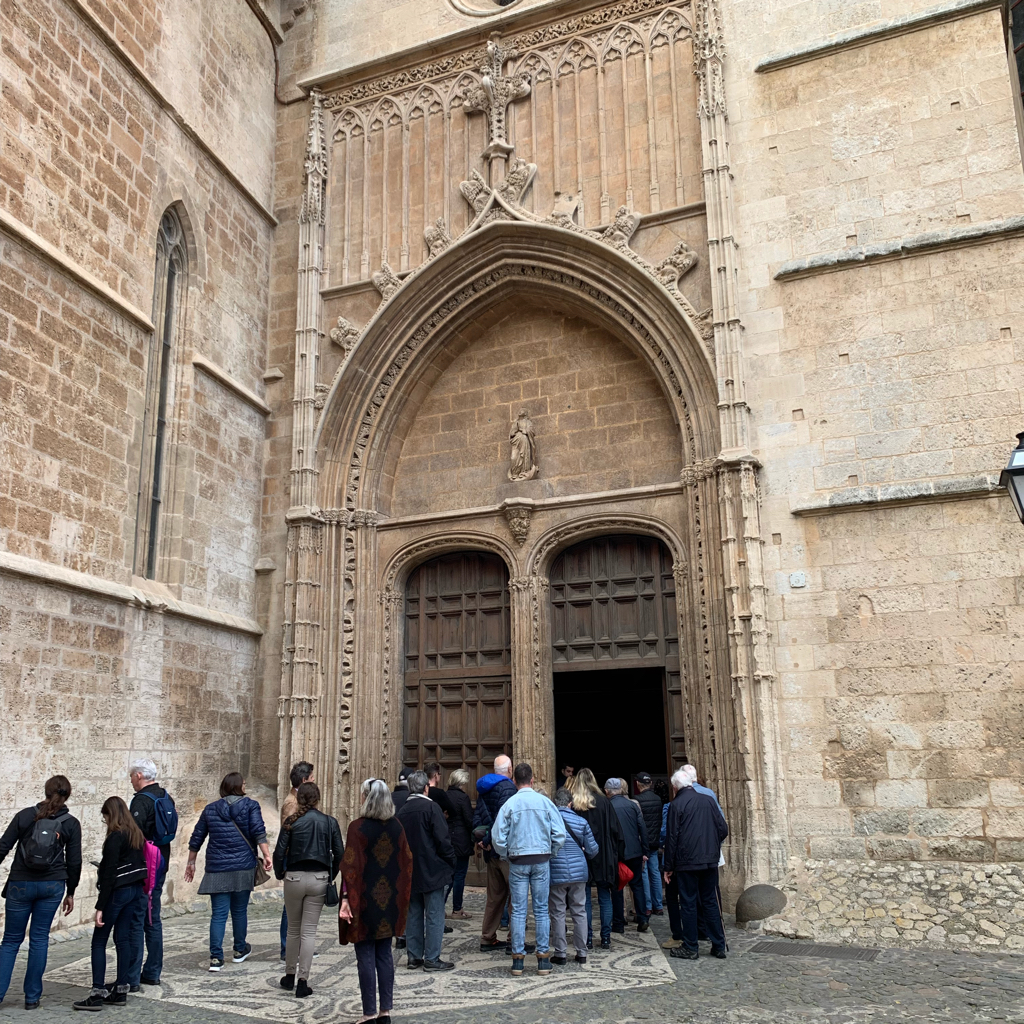arco-apuntado: (336, 243, 696, 499)
arco-conopial: (414, 177, 626, 266)
